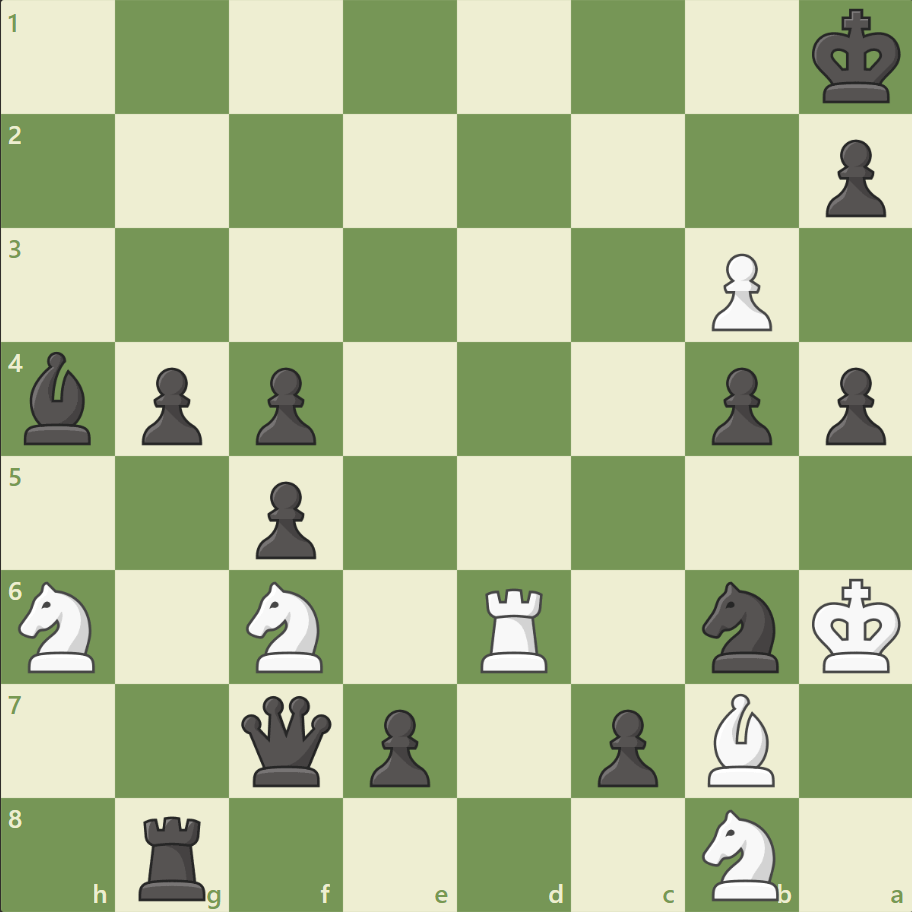B: (698, 687, 782, 790)
K: (806, 571, 906, 679)
N: (692, 802, 789, 904), (238, 575, 335, 677), (11, 575, 108, 677)
P: (701, 246, 776, 337)
R: (473, 579, 556, 676)
b: (17, 347, 101, 449)
k: (806, 4, 906, 112)
n: (692, 575, 789, 677)
p: (247, 473, 322, 564), (701, 359, 776, 450), (247, 359, 322, 450), (133, 359, 208, 450), (588, 700, 662, 791), (361, 700, 435, 791), (815, 359, 889, 450), (815, 132, 889, 223)
q: (237, 690, 336, 789)
r: (133, 806, 215, 904)
